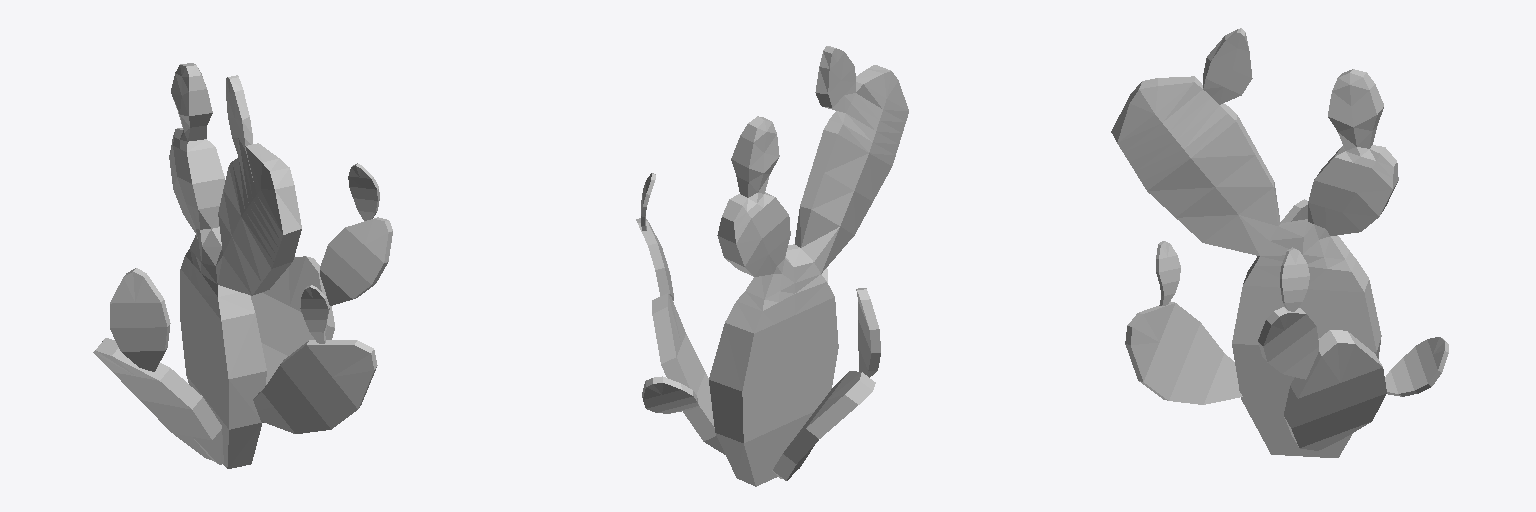
File: cactus_round.obj
3 views of the same model, side by side, from view 1: azimuth 30°, elevation 25°; view 2: azimuth 150°, elevation 25°; view 3: azimuth 270°, elevation 25° (orthographic).
Visible parts, largest first — view 1: Weird_Cactus_Cube; view 2: Weird_Cactus_Cube; view 3: Weird_Cactus_Cube.
Part boxes in pixels (bbox=[...]): Weird_Cactus_Cube: bbox=[93, 63, 392, 468]; Weird_Cactus_Cube: bbox=[636, 46, 908, 486]; Weird_Cactus_Cube: bbox=[1111, 28, 1448, 457].
Bounding box in the file's own units: 0.0919 × 0.1351 × 0.1011.